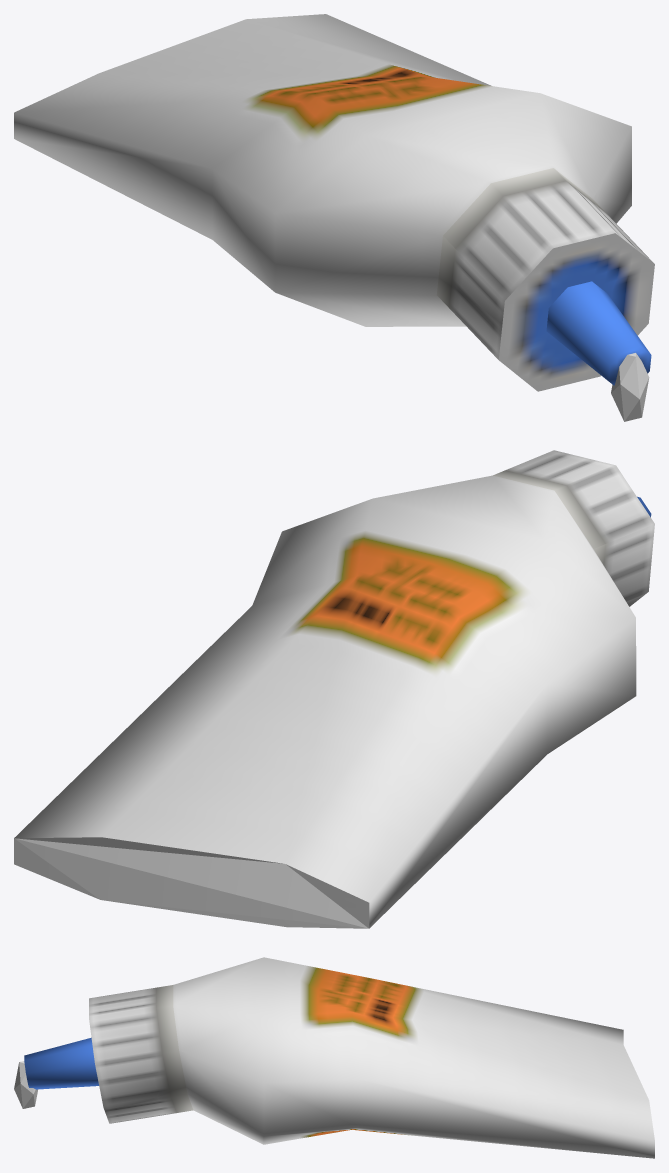
The model's file is GlueEmpty.fbx.
The picture shows the model from 3 angles, top to bottom: view 1: azimuth 30°, elevation 25°; view 2: azimuth 150°, elevation 25°; view 3: azimuth 270°, elevation 25°; orthographic projection. The views are drawn at different scales.
Parts seen in each view (by area): view 1: Glue001; view 2: Glue001; view 3: Glue001.
Part boxes in pixels (x1,y1,x2,y2): Glue001: [14, 14, 654, 421]; Glue001: [14, 450, 654, 928]; Glue001: [14, 957, 654, 1158].
Size of the model in its own units: 12.92 by 6.73 by 29.6.
